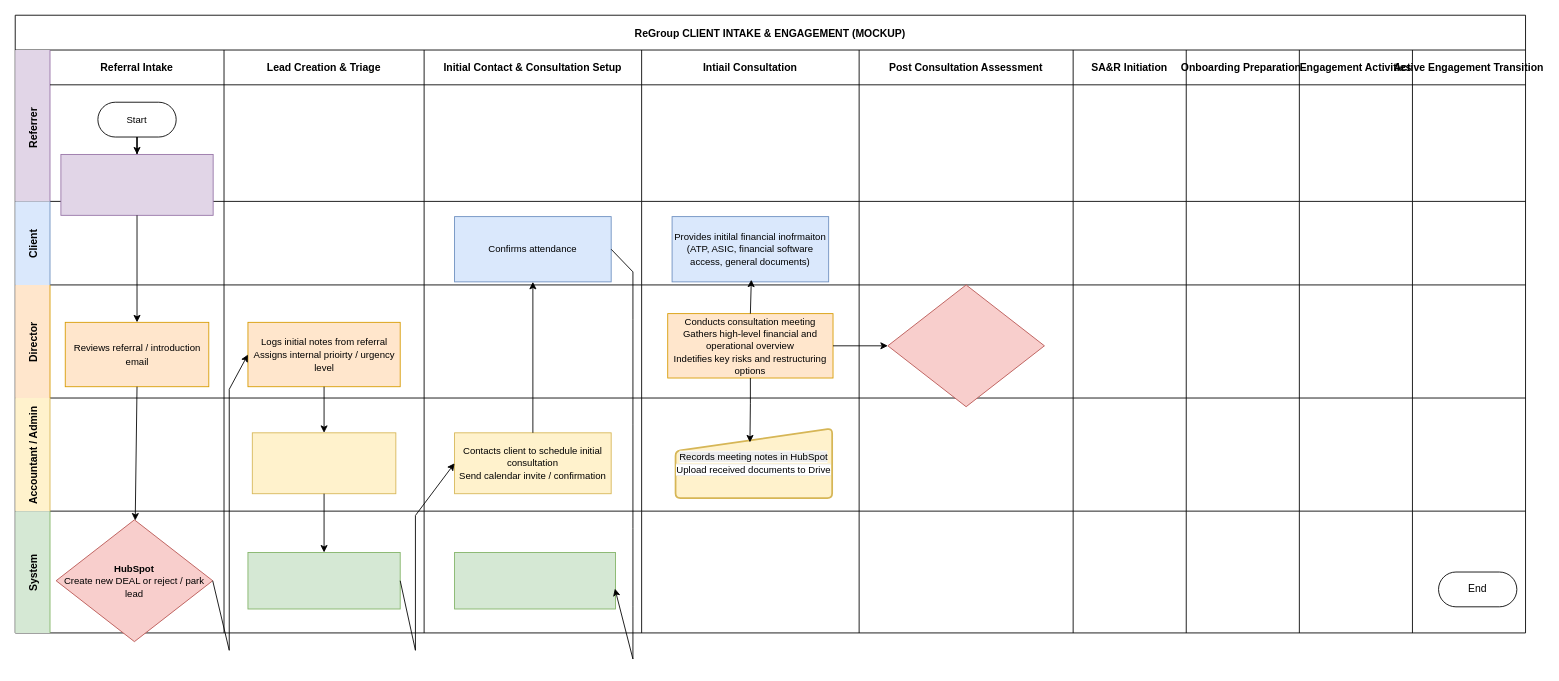
The diagram is 1559 pixels wide and 681 high, and some of its shapes have lost their labels. The box of each missing label's shape, as (x1, y1, x2, y2) in pixels:
Creates HubSpot Deal Assigns pipeline stage: "New Enquiry": (251, 432, 396, 494)
HubSpot Stroes deal record Triggers internal task creation: (247, 552, 400, 609)
HubSpot Updates stage to "Initial Consultation Scheduled": (454, 552, 616, 609)
Proceed to SA&R OR Request additional information OR Do not proceed: (887, 284, 1044, 407)
Sends client referral / introduction email: (60, 154, 213, 215)
